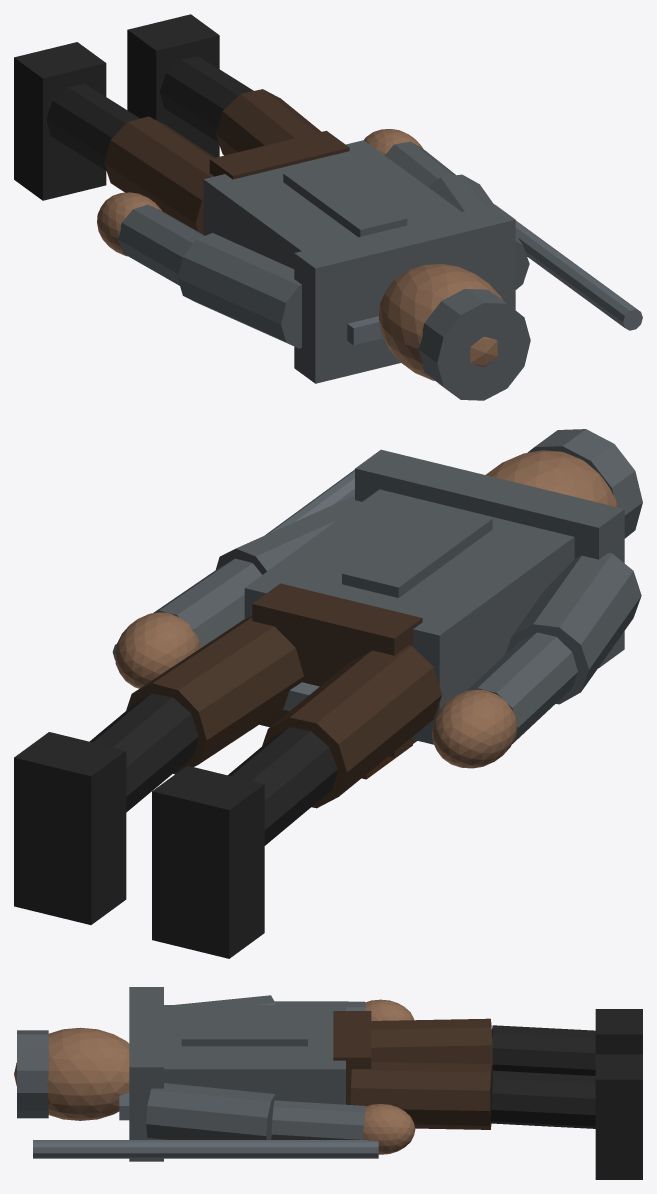
The model's file is SM_CharacterGuard_Preview.obj.
3 views of the same model, one above another, from view 1: azimuth 30°, elevation 25°; view 2: azimuth 150°, elevation 25°; view 3: azimuth 270°, elevation 25° (orthographic). The views are drawn at different scales.
Size of the model in its own units: 0.9798 by 0.41 by 1.99.
